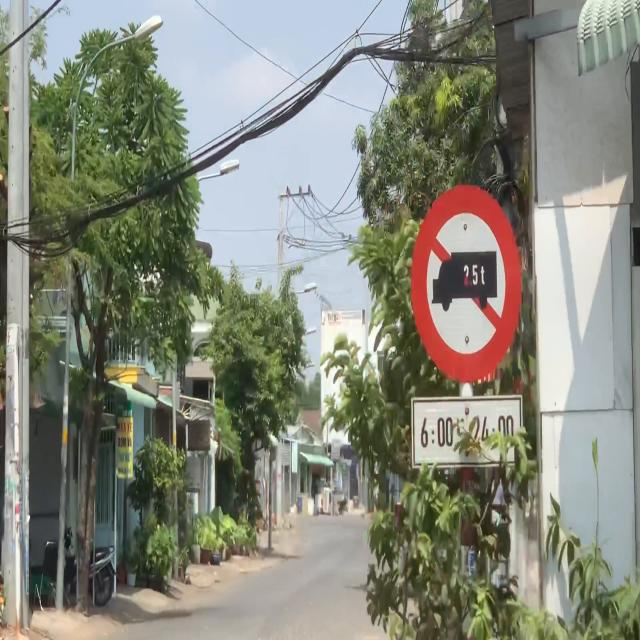Cam con lai: (409, 184, 524, 386)
